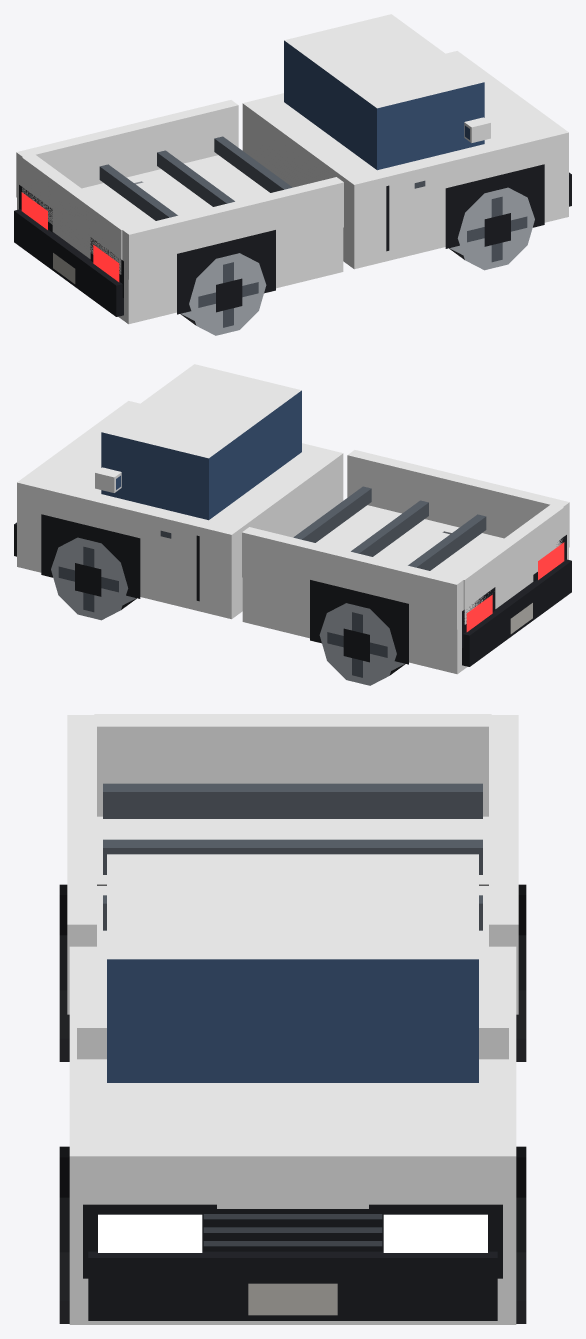
File: car_pickup.glb
The picture shows the model from 3 angles, top to bottom: view 1: azimuth 30°, elevation 25°; view 2: azimuth 150°, elevation 25°; view 3: azimuth 270°, elevation 25°; orthographic projection. The views are drawn at different scales.
Parts seen in each view (by area): view 1: car_pickup; view 2: car_pickup; view 3: car_pickup.
Part boxes in pixels (left/top/right/bottom): car_pickup: left=14, top=14, right=571, bottom=335; car_pickup: left=14, top=364, right=571, bottom=685; car_pickup: left=59, top=714, right=526, bottom=1324.
Bounding box in the file's own units: 0.4256 × 0.157 × 0.1924.
